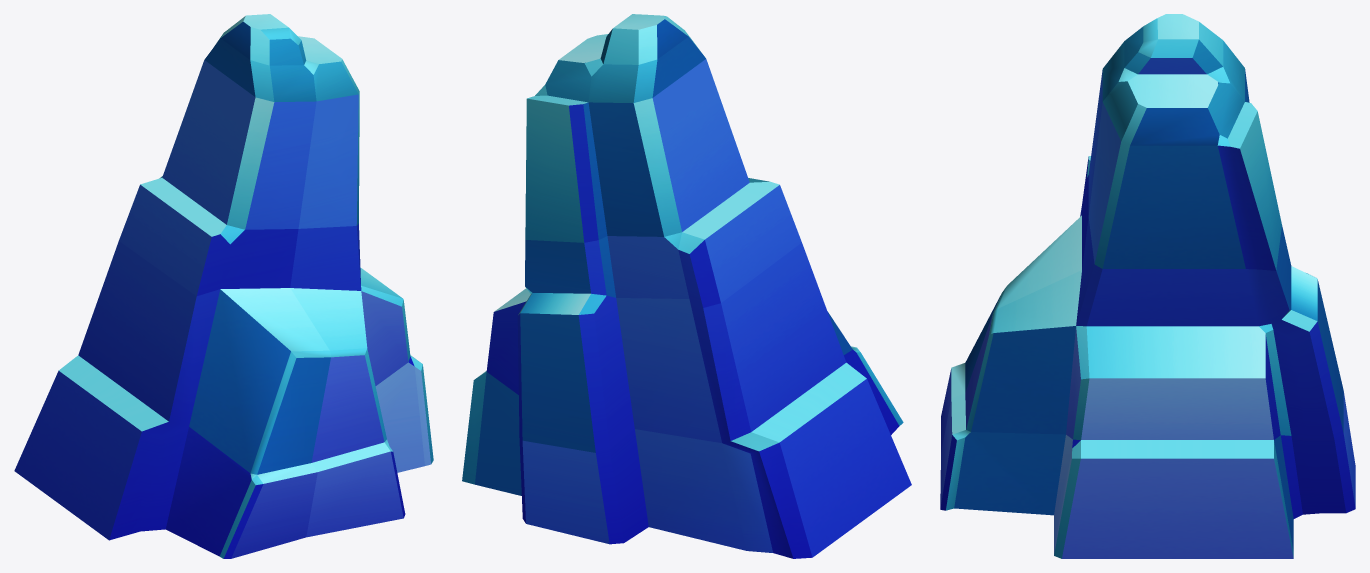
The model's file is rockTall.fbx.
3 views of the same model, side by side, from view 1: azimuth 30°, elevation 25°; view 2: azimuth 150°, elevation 25°; view 3: azimuth 270°, elevation 25° (orthographic). The views are drawn at different scales.
Visible parts, largest first — view 1: rockTall; view 2: rockTall; view 3: rockTall.
Boxes of the visible parts, x1,y1,x2,y2 form: rockTall: (14, 14, 433, 558); rockTall: (462, 14, 911, 558); rockTall: (940, 14, 1355, 558).
Bounding box in the file's own units: 114 × 146 × 116.
